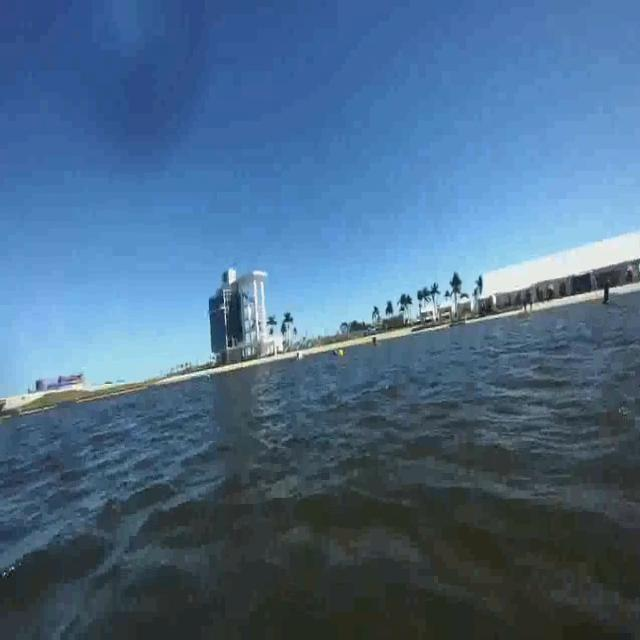yellow-buoy: (340, 348, 346, 358)
